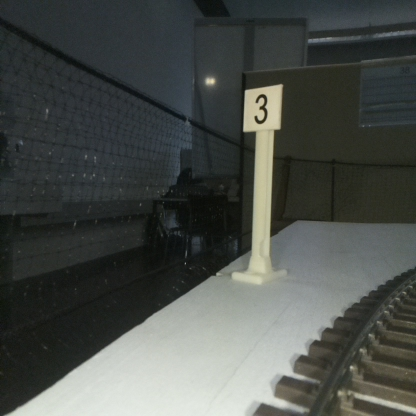white-info-3: (244, 89, 280, 279)
